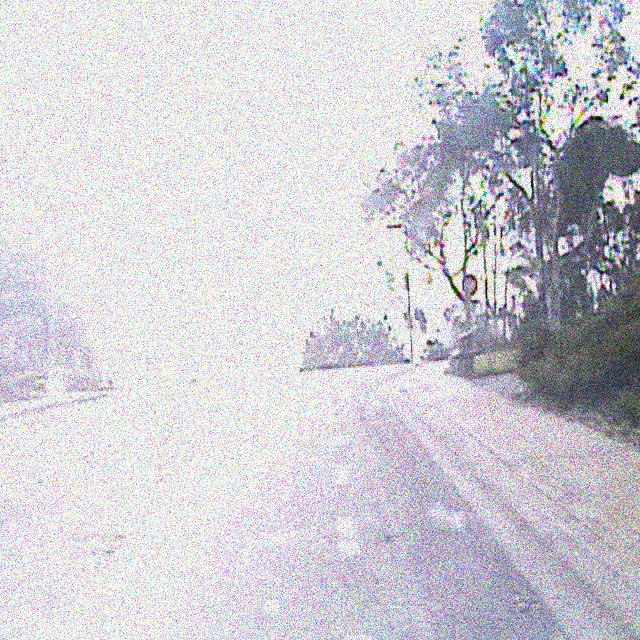stop_sign: (462, 272, 478, 297)
